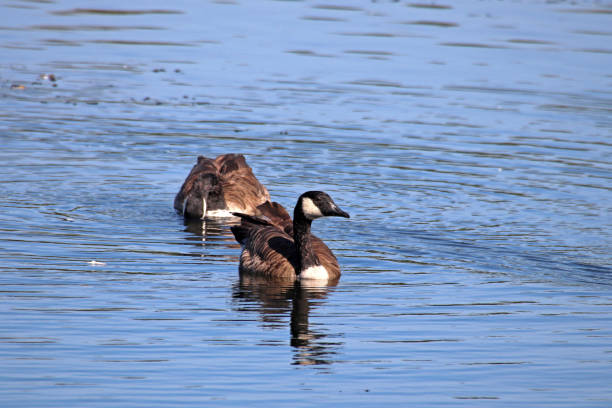goose: (227, 186, 352, 291), (171, 151, 274, 229)
